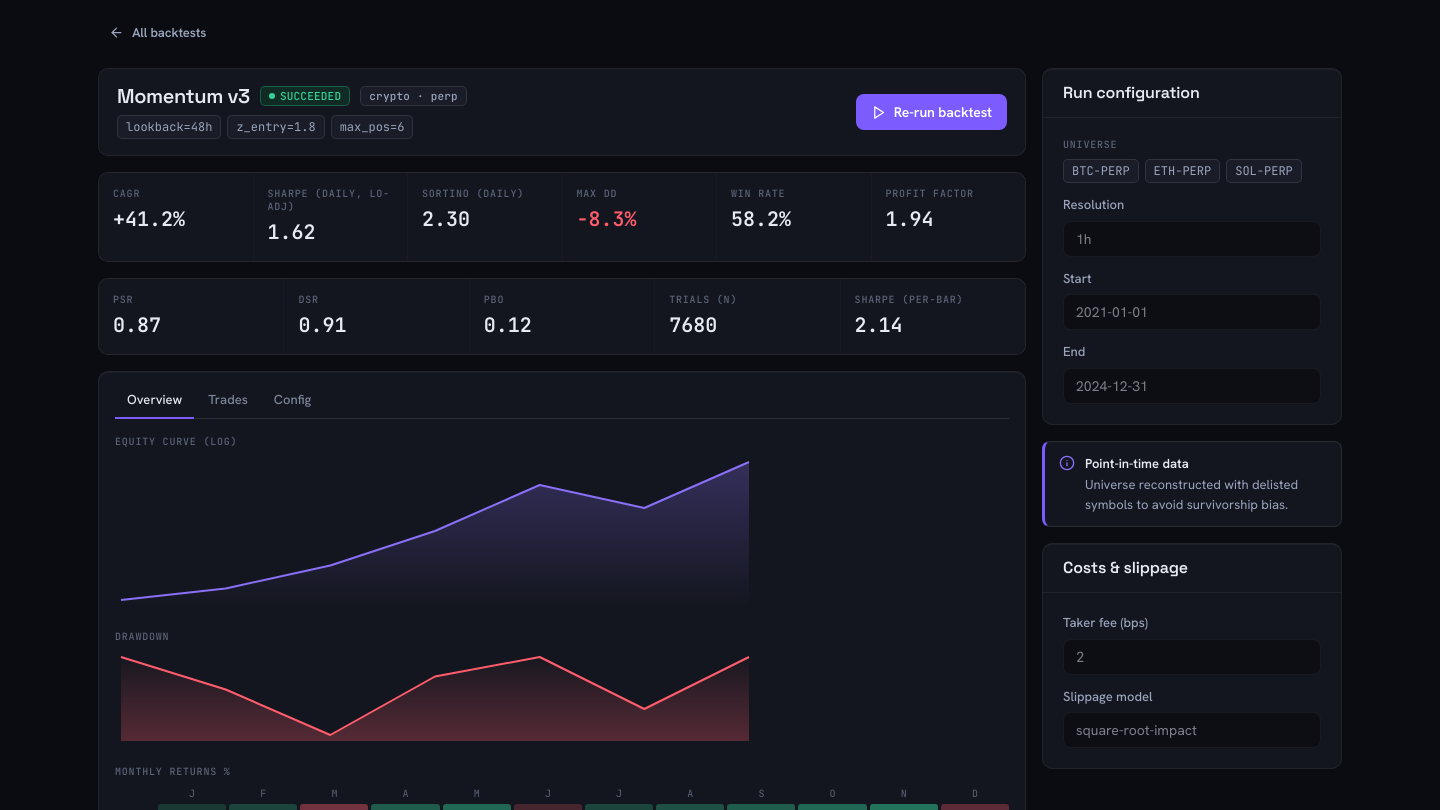
Test: BacktestResult › renders the full §8.1 contract for a succeeded run
Expected: the heading "Momentum v3" is shown, [117,85,250,107]
Expected: the text "+41.2%" is shown, [113,206,185,232]
# Trades table.
Click the tab "Trades".
click(228, 400)  # box [196,382,260,419]
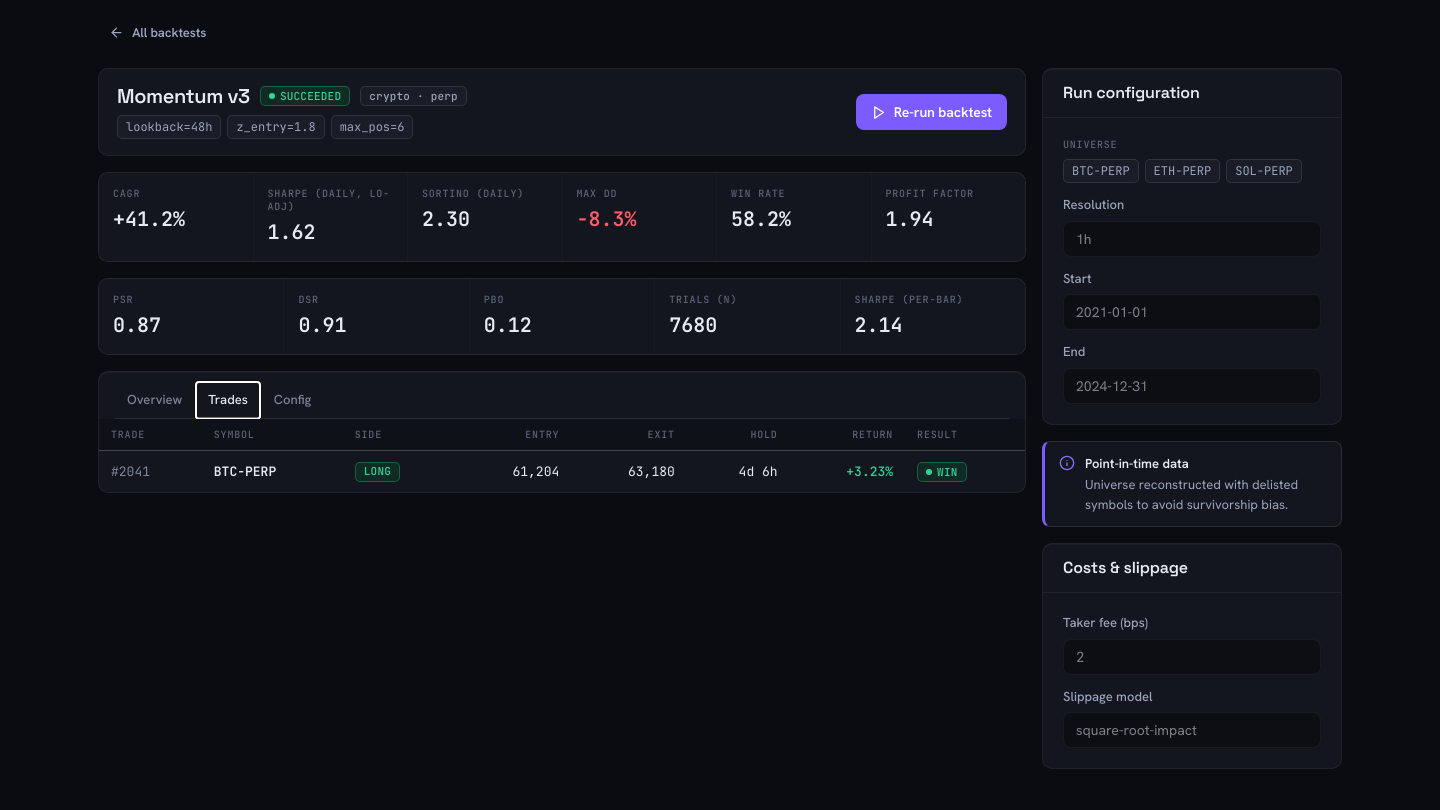
Now the text "BTC-PERP" next to "#2041" is shown, box [214,463,276,480]
Now the text "WIN" is shown, box [917,462,967,482]
